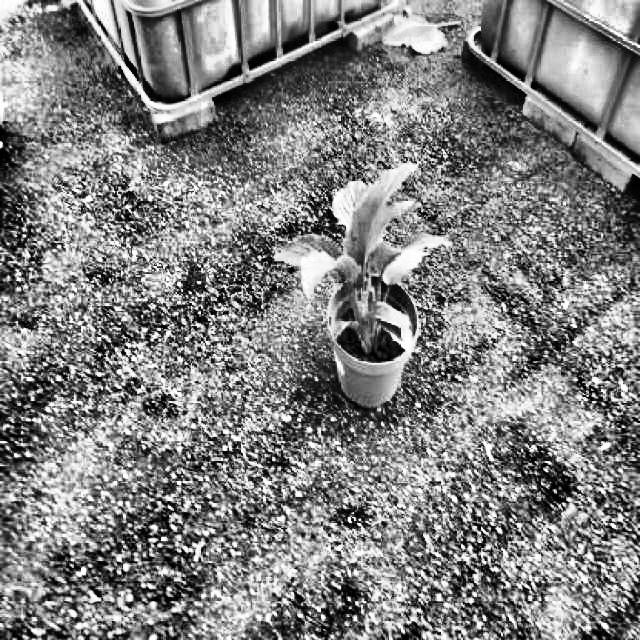plants: (274, 164, 451, 356)
